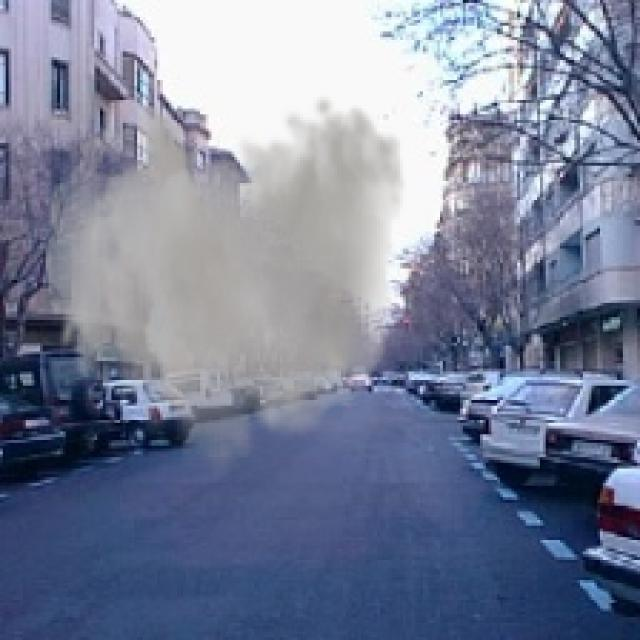smoke: (46, 94, 406, 486)
